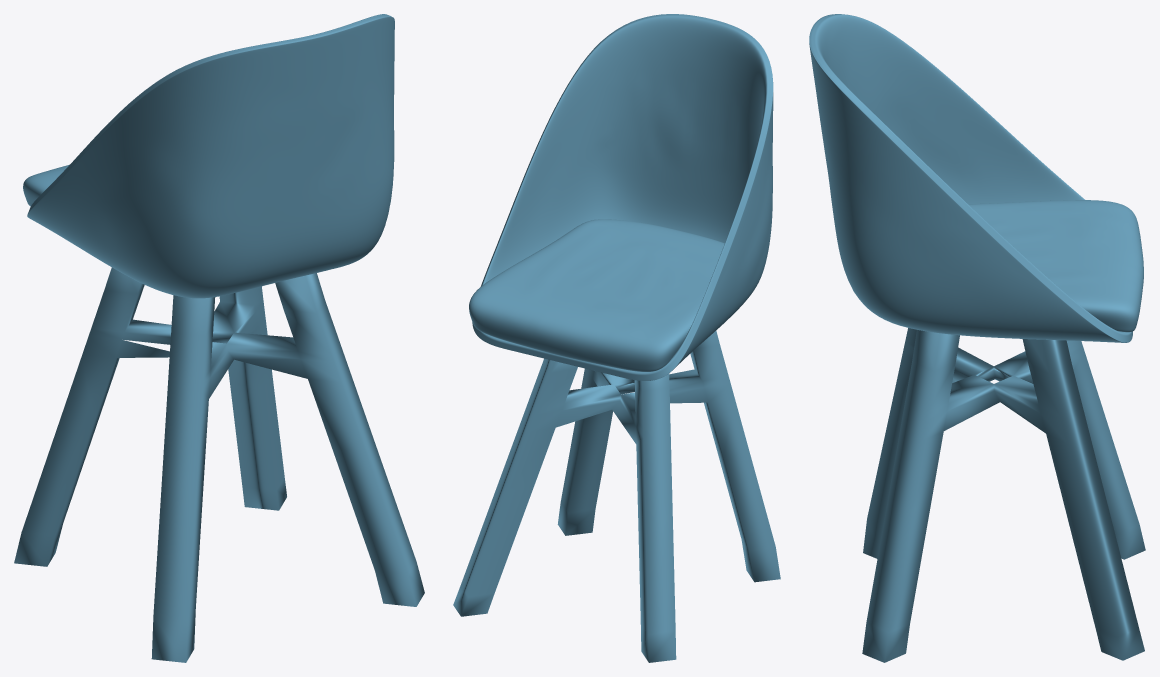
The model's file is chair2_blue.glb.
3 views of the same model, side by side, from view 1: azimuth 30°, elevation 25°; view 2: azimuth 150°, elevation 25°; view 3: azimuth 270°, elevation 25° (orthographic). The views are drawn at different scales.
Parts seen in each view (by area): view 1: Back, Legs, Seat; view 2: Back, Legs, Seat; view 3: Back, Legs, Seat.
Part boxes in pixels (<box>): Back: <box>27,14,394,298</box>; Legs: <box>14,267,424,662</box>; Seat: <box>23,164,69,206</box>; Back: <box>472,14,773,380</box>; Legs: <box>453,331,780,662</box>; Seat: <box>469,219,724,371</box>; Back: <box>809,14,1132,342</box>; Legs: <box>862,328,1145,662</box>; Seat: <box>968,200,1143,332</box>.
Size of the model in its own units: 1.76 by 3.76 by 2.05.
